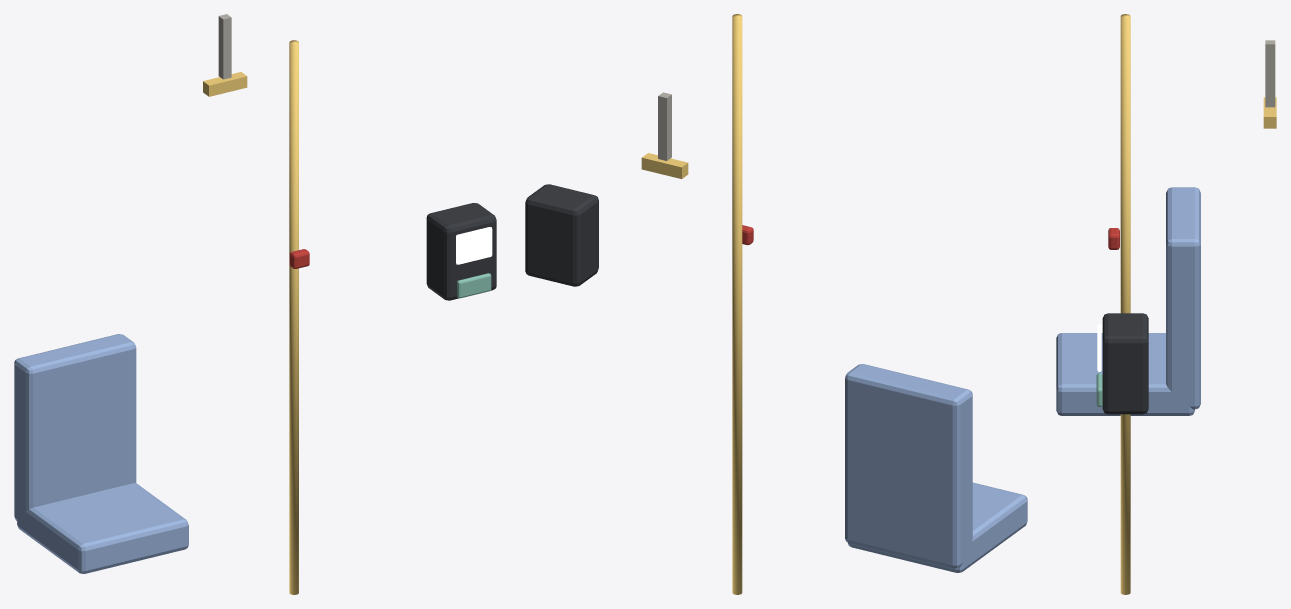
The model's file is BusInterior_blockout.glb.
3 views of the same model, side by side, from view 1: azimuth 30°, elevation 25°; view 2: azimuth 150°, elevation 25°; view 3: azimuth 270°, elevation 25° (orthographic). The views are drawn at different scales.
Visible parts, largest first — view 1: SF02_BusInterior_SeatBack_L0, SF02_BusInterior_SeatBase_L0, SF02_BusInterior_Pole_L0, SF02_BusInterior_Validator_L0, SF02_BusInterior_ValidatorScreen_L0, SF02_BusInterior_StrapStem_L0, SF02_BusInterior_StrapGrip_L0, SF02_BusInterior_TapZone_L0; view 2: SF02_BusInterior_SeatBack_L0, SF02_BusInterior_Validator_L0, SF02_BusInterior_Pole_L0, SF02_BusInterior_SeatBase_L0, SF02_BusInterior_StrapStem_L0, SF02_BusInterior_StrapGrip_L0; view 3: SF02_BusInterior_SeatBack_L0, SF02_BusInterior_SeatBase_L0, SF02_BusInterior_Pole_L0, SF02_BusInterior_Validator_L0, SF02_BusInterior_StrapStem_L0, SF02_BusInterior_StrapGrip_L0.
Boxes of the visible parts, x1=… form: SF02_BusInterior_SeatBack_L0: x1=14, y1=334, x2=136, y2=524; SF02_BusInterior_SeatBase_L0: x1=17, y1=483, x2=188, y2=573; SF02_BusInterior_Pole_L0: x1=289, y1=40, x2=298, y2=594; SF02_BusInterior_Validator_L0: x1=426, y1=203, x2=496, y2=300; SF02_BusInterior_ValidatorScreen_L0: x1=456, y1=227, x2=492, y2=264; SF02_BusInterior_StrapStem_L0: x1=218, y1=14, x2=231, y2=79; SF02_BusInterior_StrapGrip_L0: x1=203, y1=72, x2=247, y2=96; SF02_BusInterior_TapZone_L0: x1=457, y1=273, x2=491, y2=298; SF02_BusInterior_SeatBack_L0: x1=845, y1=364, x2=972, y2=568; SF02_BusInterior_Validator_L0: x1=525, y1=184, x2=598, y2=286; SF02_BusInterior_Pole_L0: x1=732, y1=14, x2=742, y2=594; SF02_BusInterior_SeatBase_L0: x1=847, y1=482, x2=1027, y2=572; SF02_BusInterior_StrapStem_L0: x1=658, y1=92, x2=671, y2=160; SF02_BusInterior_StrapGrip_L0: x1=641, y1=153, x2=688, y2=178; SF02_BusInterior_SeatBack_L0: x1=1166, y1=187, x2=1200, y2=409; SF02_BusInterior_SeatBase_L0: x1=1056, y1=333, x2=1194, y2=415; SF02_BusInterior_Pole_L0: x1=1120, y1=14, x2=1130, y2=594; SF02_BusInterior_Validator_L0: x1=1102, y1=313, x2=1148, y2=414; SF02_BusInterior_StrapStem_L0: x1=1265, y1=40, x2=1275, y2=107; SF02_BusInterior_StrapGrip_L0: x1=1263, y1=97, x2=1276, y2=128.
Size of the model in its own units: 1.84 by 2.2 by 0.7625.
